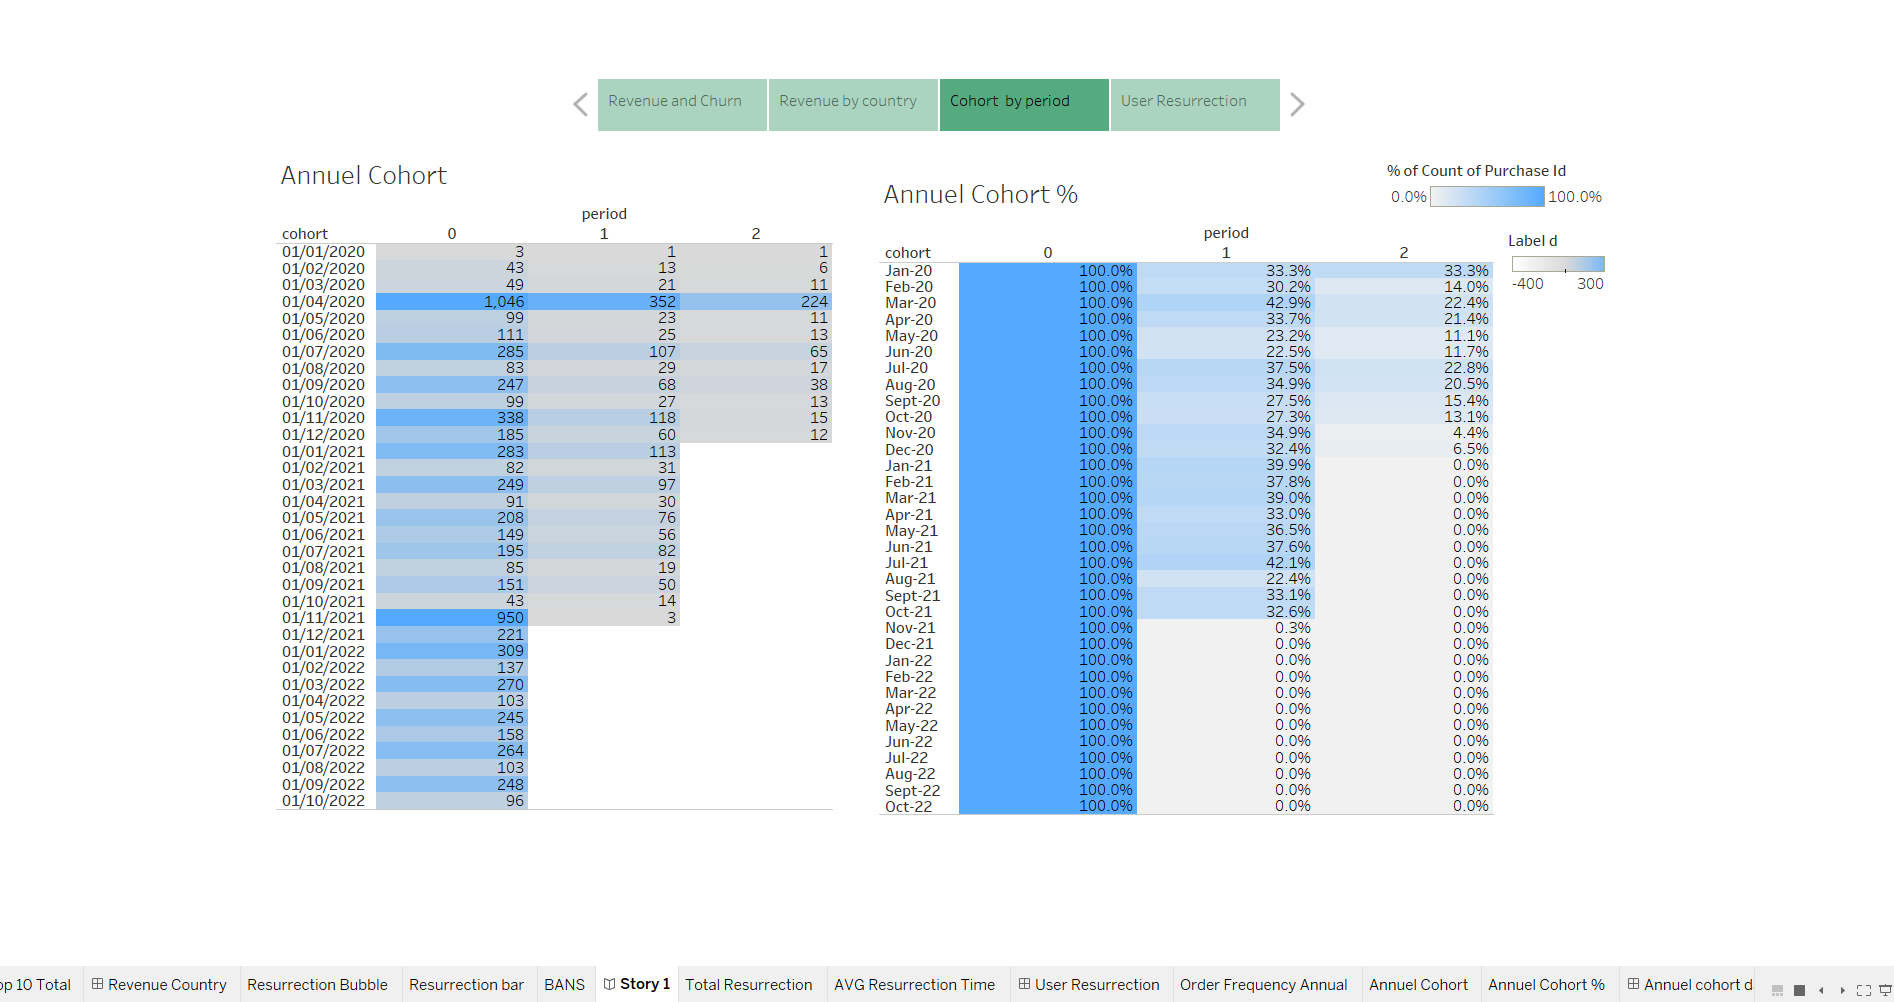

This screenshot's page, from the dashboard's own definition file:
{"tool":"tableau","page":{"name":"Annuel cohort dashbaord","canvas":[1350,669],"ordinal":0},"visuals":[{"type":"worksheet","title":"Annuel Cohort","mark":"Square","rows":["Calculation_390687318550847488"],"cols":["Calculation_390687318552453121"],"box":[12,2,557,657]},{"type":"legend","title":"Annuel Cohort %","param":"[federated.1wmbekm1j76hbf18kpeza14somcy].[pcva:cnt:purchase_id:qk:2]","box":[1123,9,220,55]},{"type":"worksheet","title":"Annuel Cohort %","mark":"Square","rows":["Calculation_390687318550847488"],"cols":["Calculation_390687318552453121"],"box":[615,21,615,643]},{"type":"legend","title":"Annuel Cohort","param":"[federated.1wmbekm1j76hbf18kpeza14somcy].[usr:label (copy)_390687318555504643:qk","box":[1244,79,101,88]}]}

Visuals, with their boxes on the page's 1350x669 design canvas (x1, y1, x2, y2). These are canvas units, not pixel positions in the 1894x1002 screenshot, which may show the page scaled, cropped or inside an application window:
"Annuel Cohort" worksheet (Square marks): 12:2:569:659
"Annuel Cohort %" legend: 1123:9:1343:64
"Annuel Cohort %" worksheet (Square marks): 615:21:1230:664
"Annuel Cohort" legend: 1244:79:1345:167
